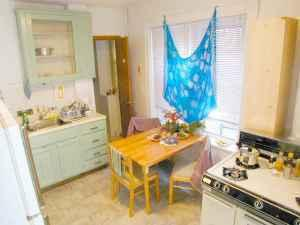Electrodomestico: (201, 135, 298, 224)
Ventana: (146, 25, 241, 144)
